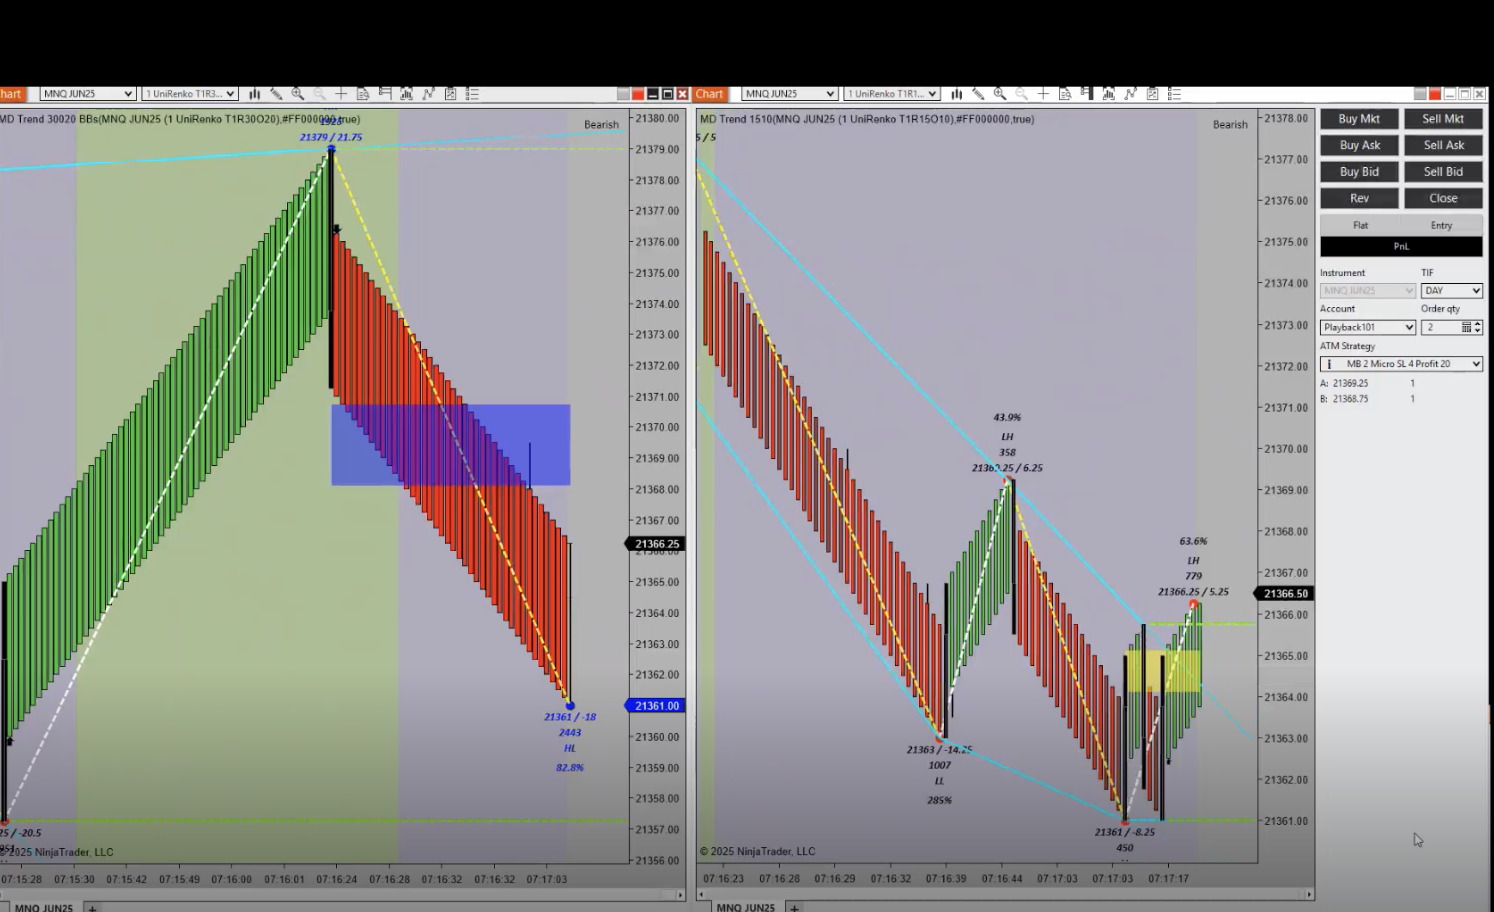candle: (1120, 654, 1134, 828), (941, 583, 955, 743), (1158, 654, 1171, 825), (1141, 623, 1151, 793), (3, 585, 10, 823), (1010, 476, 1018, 644), (330, 150, 335, 394)
